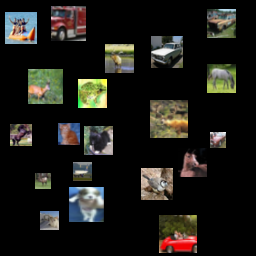airplane: (73, 162, 92, 181)
automobile: (159, 215, 197, 253), (151, 36, 183, 68), (207, 9, 236, 38), (210, 132, 226, 148)
bird: (141, 168, 173, 200)
cat: (58, 123, 80, 145), (40, 211, 59, 230)
deer: (150, 100, 188, 138), (28, 69, 63, 104), (105, 44, 134, 73), (35, 173, 51, 189)
dog: (69, 187, 104, 222), (84, 126, 113, 155)
frog: (78, 79, 107, 108)
ship: (5, 12, 37, 44)
